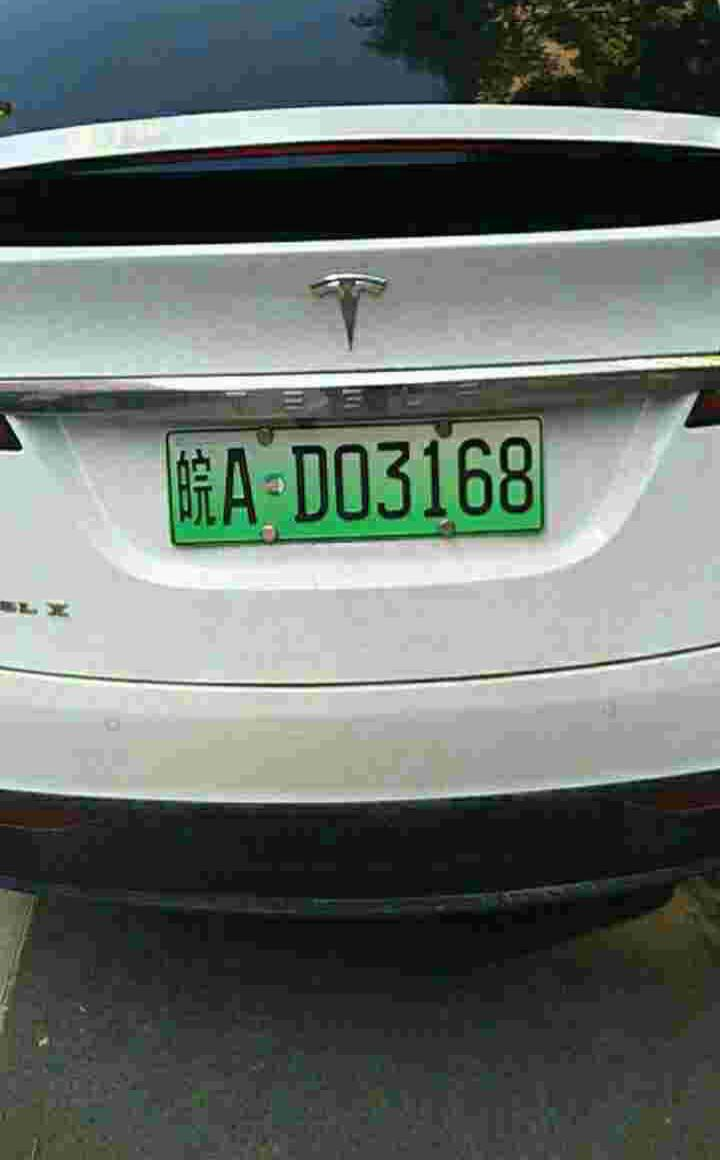car: (152, 428, 536, 541)
